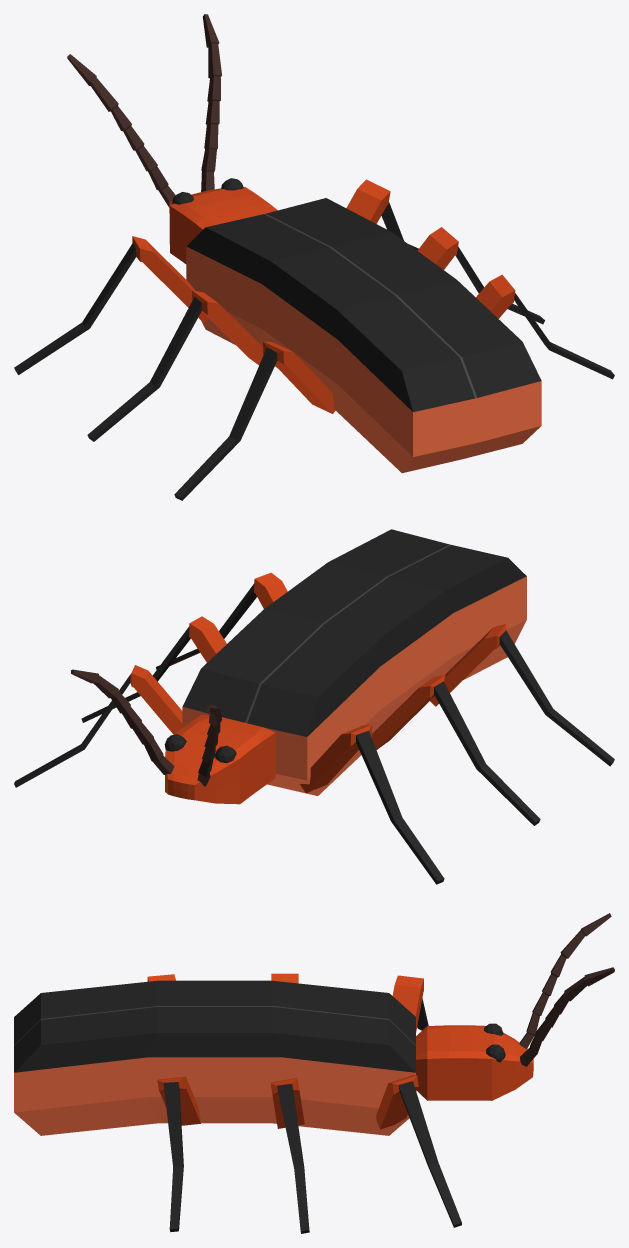
File: myagkotelka.fbx
The picture shows the model from 3 angles, top to bottom: view 1: azimuth 30°, elevation 25°; view 2: azimuth 150°, elevation 25°; view 3: azimuth 270°, elevation 25°; orthographic projection. The views are drawn at different scales.
Parts seen in each view (by area): view 1: Cube, Cube.006, Cube.005, Cube.001, Cube.004, Cube.002, Cube.003, Cube.009, Cube.008, Cube.007; view 2: Cube, Cube.001, Cube.004, Cube.005, Cube.006, Cube.007, Cube.002, Cube.008, Cube.009, Cube.003; view 3: Cube, Cube.001, Cube.007, Cube.009, Cube.008, Cube.003, Cube.002, Cube.004.
Part boxes in pixels (left/top/right/bottom): Cube: left=186, top=198, right=541, bottom=473; Cube.006: left=174, top=341, right=335, bottom=500; Cube.005: left=87, top=290, right=263, bottom=441; Cube.001: left=169, top=187, right=277, bottom=263; Cube.004: left=14, top=236, right=208, bottom=374; Cube.002: left=201, top=14, right=221, bottom=191; Cube.003: left=67, top=54, right=175, bottom=207; Cube.009: left=476, top=274, right=614, bottom=379; Cube.008: left=417, top=227, right=544, bottom=324; Cube.007: left=346, top=179, right=418, bottom=250; Cube: left=182, top=529, right=526, bottom=795; Cube.001: left=165, top=714, right=275, bottom=804; Cube.004: left=300, top=724, right=444, bottom=884; Cube.005: left=372, top=675, right=540, bottom=825; Cube.006: left=430, top=624, right=614, bottom=766; Cube.007: left=14, top=665, right=182, bottom=787; Cube.002: left=71, top=669, right=174, bottom=774; Cube.008: left=81, top=616, right=226, bottom=722; Cube.009: left=156, top=572, right=287, bottom=669; Cube.003: left=197, top=704, right=222, bottom=786; Cube: left=14, top=980, right=415, bottom=1135; Cube.001: left=416, top=1025, right=533, bottom=1100; Cube.007: left=376, top=1075, right=461, bottom=1227; Cube.009: left=157, top=1076, right=200, bottom=1232; Cube.008: left=270, top=1078, right=309, bottom=1233; Cube.003: left=519, top=913, right=611, bottom=1048; Cube.002: left=520, top=967, right=614, bottom=1066; Cube.004: left=392, top=975, right=428, bottom=1032.
Bounding box in the file's own units: 418 × 192 × 531.
